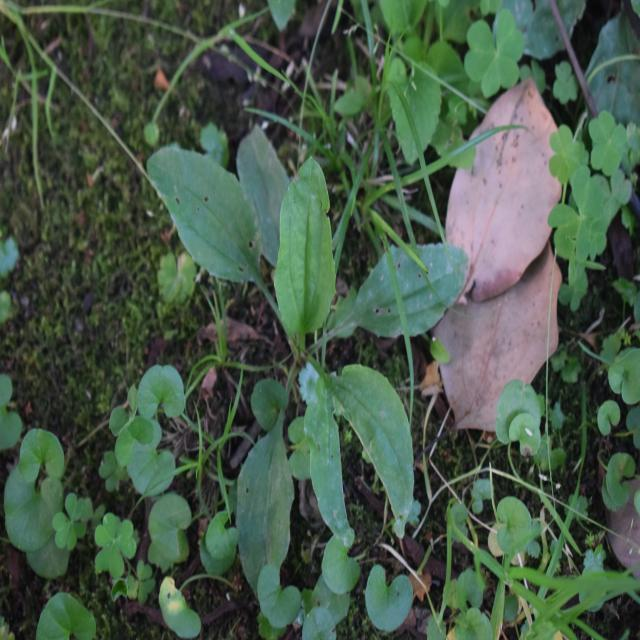plantain: (152, 129, 442, 540)
